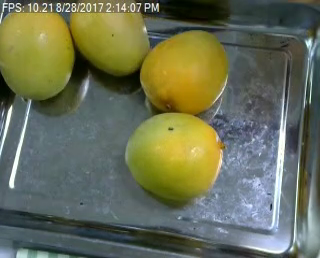Mango: (122, 115, 227, 201), (138, 27, 231, 115), (0, 3, 73, 101), (69, 0, 148, 75)
